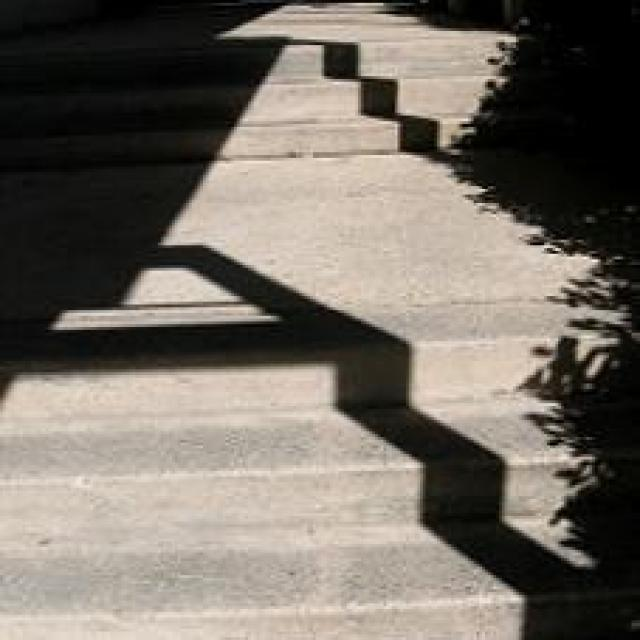upstair: (49, 320, 554, 616)
